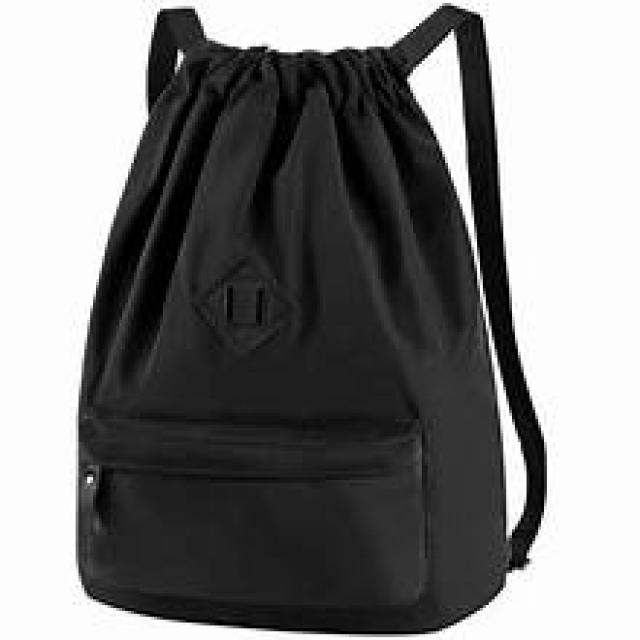backpack: (74, 1, 548, 635)
